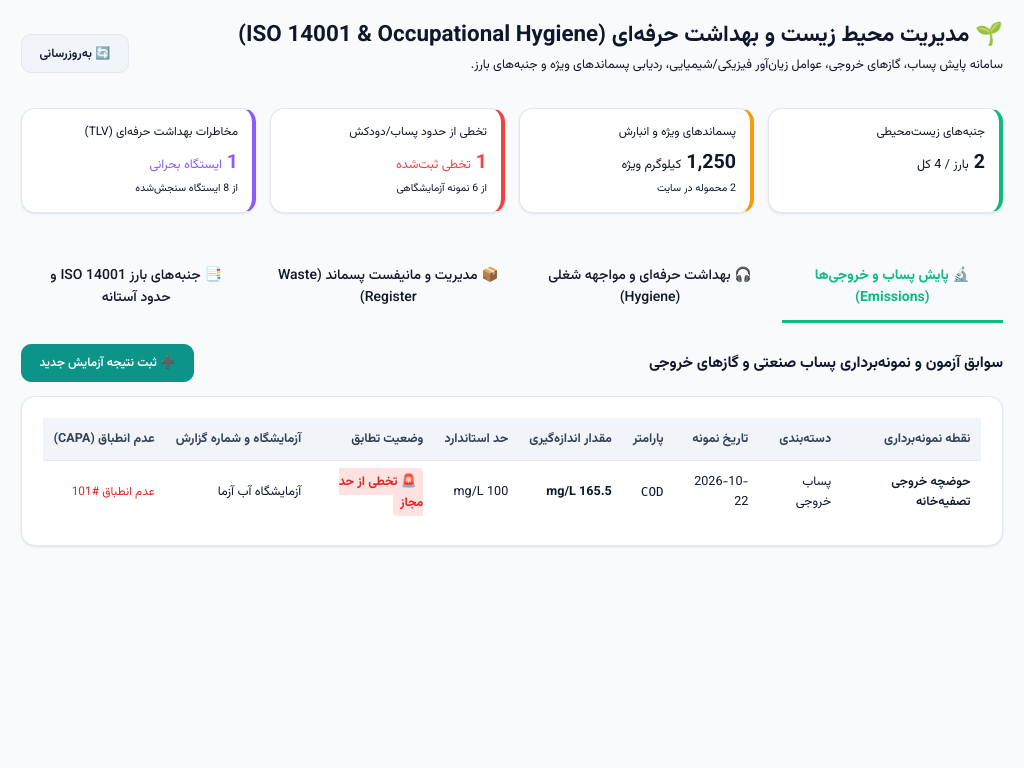
EnvironmentPage (Phase 14) › switches to waste register tab and shows hazardous waste records
Step 1. Click the button "📦 مدیریت و مانیفست پسماند (Waste Register)" → (388, 289), box top-left (258, 255), bottom-right (518, 323)
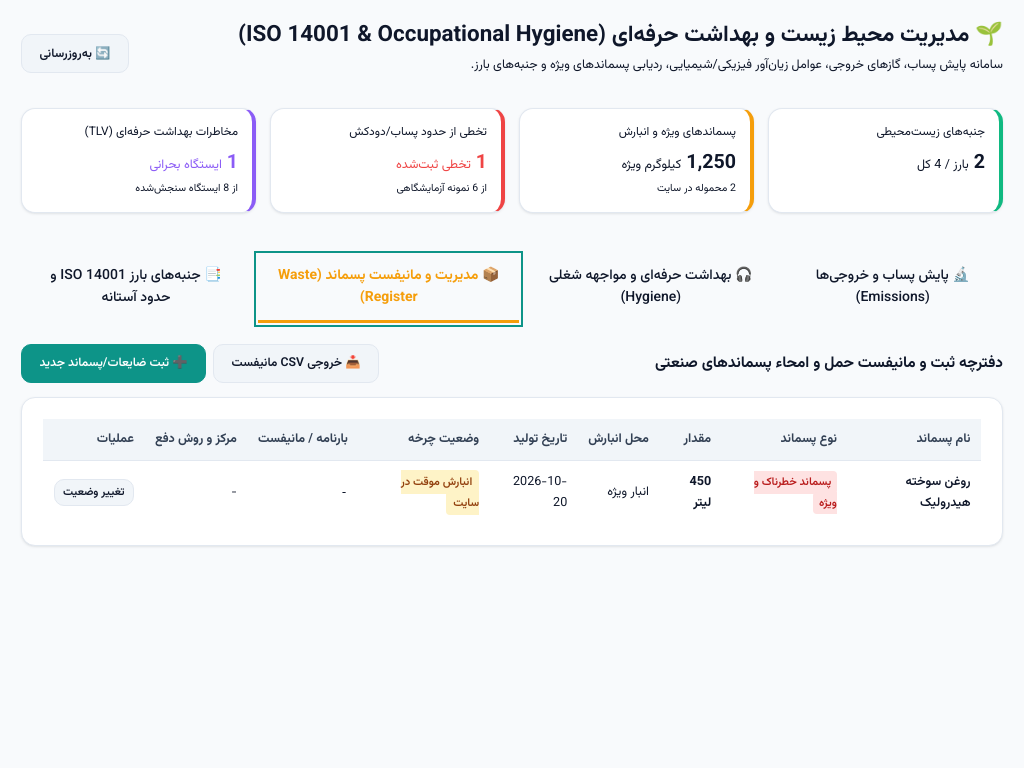
Expected: the text "روغن سوخته هیدرولیک" is shown, top-left (848, 461), bottom-right (981, 524)
Expected: the text "پسماند خطرناک و ویژه" is shown, top-left (754, 471), bottom-right (837, 514)
Expected: the text "450 لیتر" is shown, top-left (659, 461), bottom-right (722, 524)
